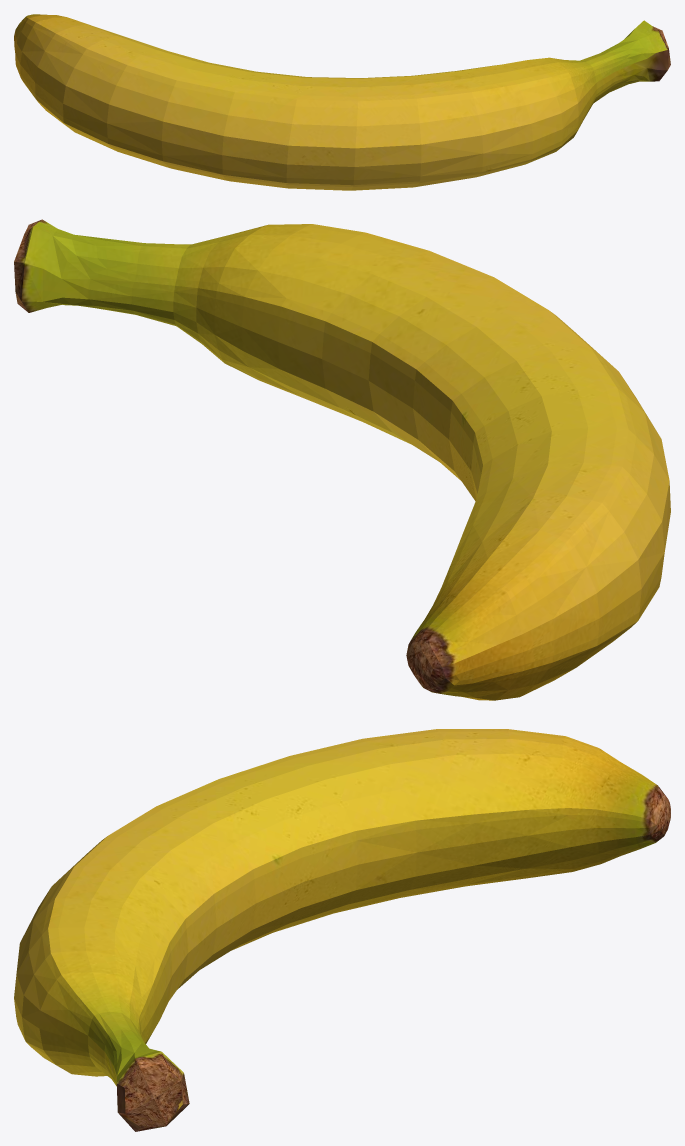
File: banana.dae
3 renders of one model, top to bottom at view 1: azimuth 30°, elevation 25°; view 2: azimuth 150°, elevation 25°; view 3: azimuth 270°, elevation 25°, orthographic. The views are drawn at different scales.
Parts seen in each view (by area): view 1: banana06; view 2: banana06; view 3: banana06.
Boxes of the visible parts, x1,y1,x2,y2 form: banana06: [14, 14, 670, 190]; banana06: [14, 219, 670, 700]; banana06: [14, 729, 670, 1131].
Bounding box in the file's own units: 4.75 × 3.94 × 0.9217.
2 materials, 1 textured.
